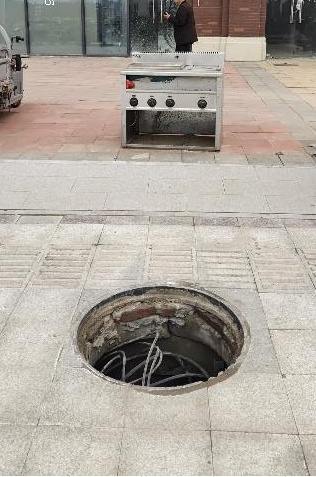well: (76, 284, 249, 395)
